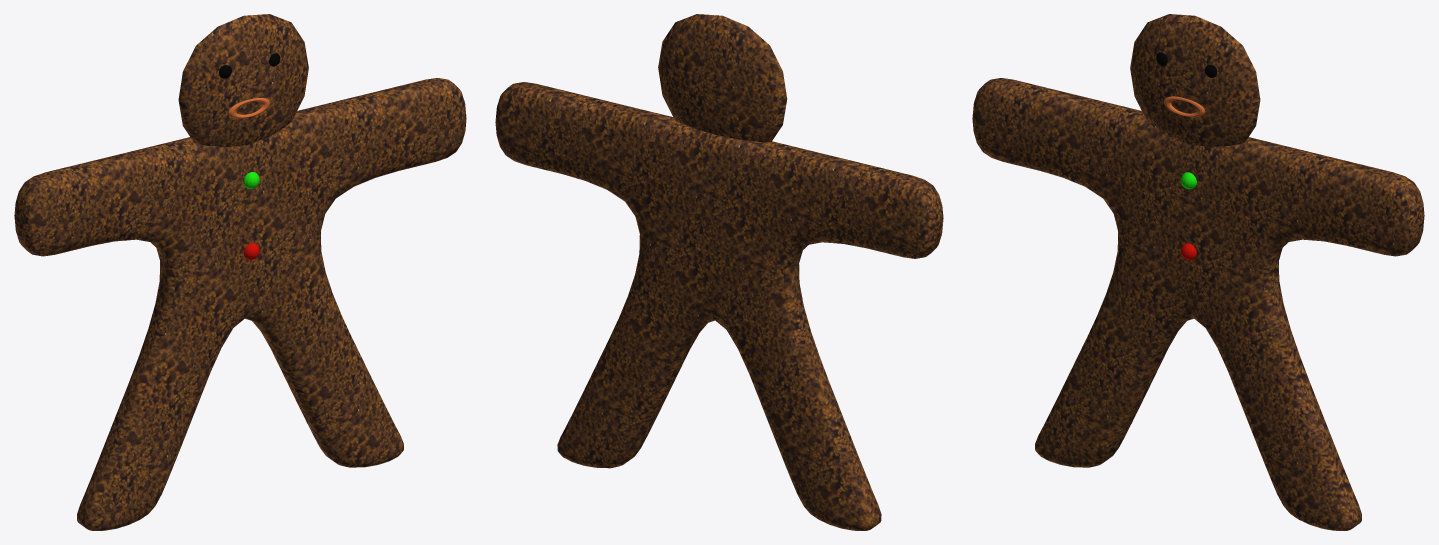
File: Gus.fbx
The picture shows the model from 3 angles, left to right: view 1: azimuth 30°, elevation 25°; view 2: azimuth 150°, elevation 25°; view 3: azimuth 330°, elevation 25°; orthographic projection.
Visible parts, largest first — view 1: Cube.001; view 2: Cube.001; view 3: Cube.001.
Part boxes in pixels (left/top/right/bottom): Cube.001: left=14, top=14, right=466, bottom=530; Cube.001: left=495, top=14, right=943, bottom=530; Cube.001: left=972, top=14, right=1424, bottom=530.
Bounding box in the file's own units: 597 × 618 × 56.07.
